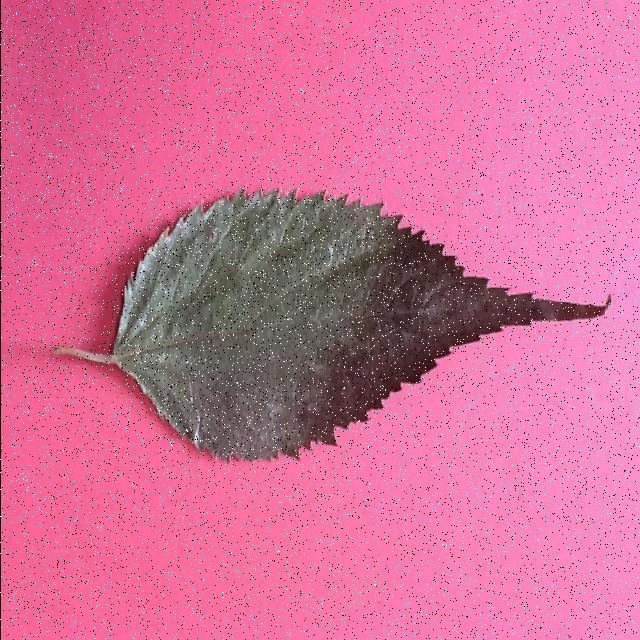foliage: (50, 190, 612, 464)
